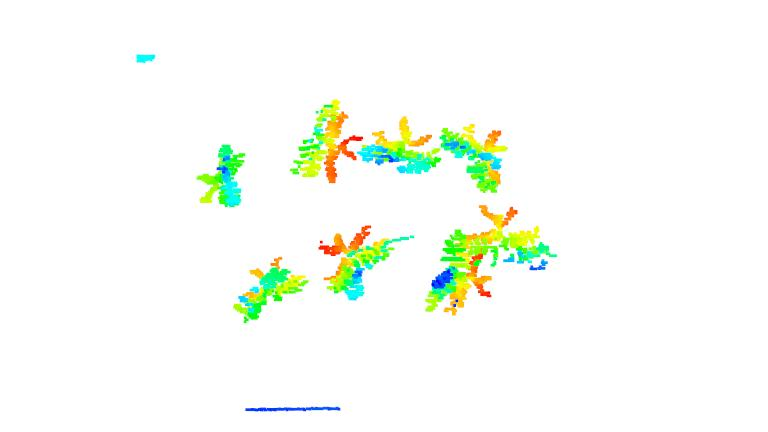chickpea: (463, 204, 555, 270), (319, 224, 390, 304), (288, 98, 351, 184), (426, 235, 489, 317), (233, 257, 306, 321), (363, 116, 439, 177), (444, 122, 506, 194), (194, 144, 245, 207)
